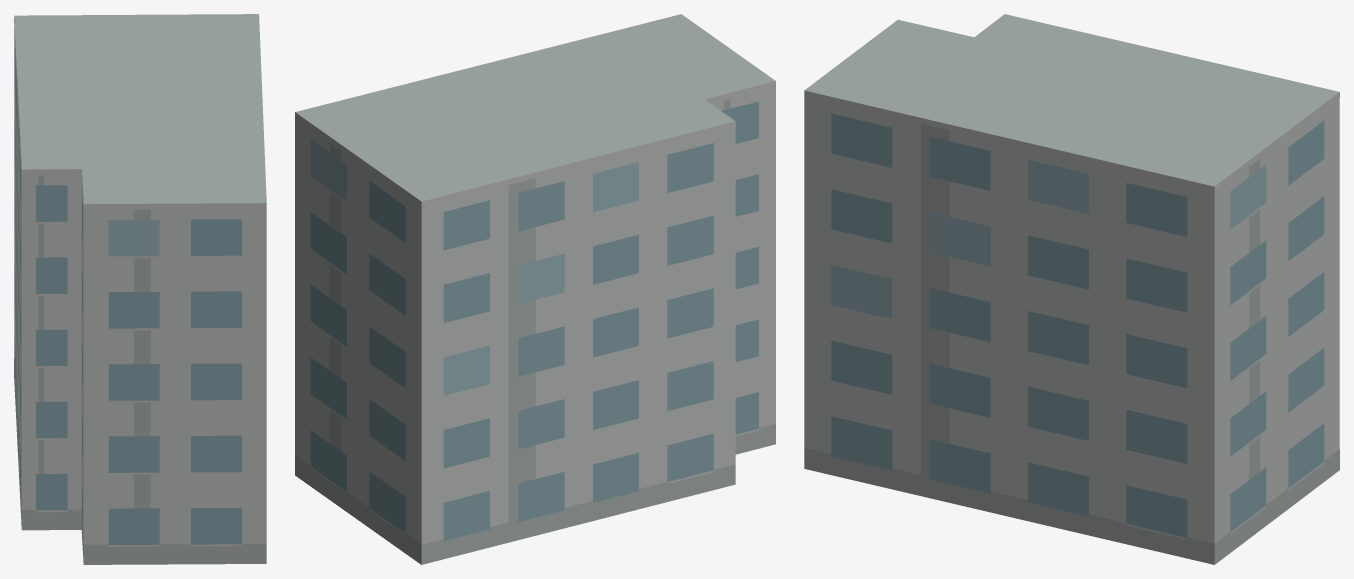
The model's file is survey-upis-32836198.glb.
3 views of the same model, side by side, from view 1: azimuth 30°, elevation 25°; view 2: azimuth 150°, elevation 25°; view 3: azimuth 270°, elevation 25° (orthographic). The views are drawn at different scales.
Parts seen in each view (by area): view 1: survey-upis-32836198.tmp; view 2: survey-upis-32836198.tmp; view 3: survey-upis-32836198.tmp.
Boxes of the visible parts, x1,y1,x2,y2 form: survey-upis-32836198.tmp: [14, 14, 266, 564]; survey-upis-32836198.tmp: [295, 14, 775, 564]; survey-upis-32836198.tmp: [804, 14, 1339, 564].
Size of the model in its own units: 14.93 by 15.25 by 19.57.
